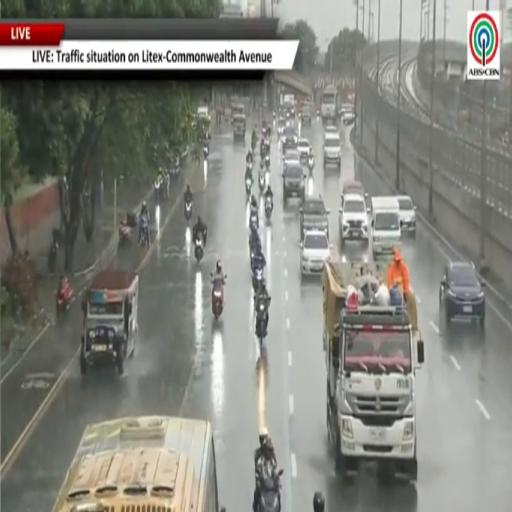bus: (53, 416, 225, 511), (321, 86, 338, 123)
car: (439, 262, 485, 327), (371, 197, 401, 260), (339, 194, 368, 246), (300, 231, 330, 276), (300, 196, 329, 239), (283, 163, 306, 202), (397, 196, 416, 236), (341, 181, 368, 206), (324, 133, 341, 170), (282, 125, 298, 153), (283, 150, 301, 168), (298, 138, 310, 164), (340, 103, 354, 120), (300, 105, 311, 126), (343, 110, 355, 125), (324, 125, 339, 134)
jeepney: (80, 269, 139, 375), (197, 106, 211, 134), (233, 115, 245, 139), (232, 104, 245, 122)
motorcycle: (257, 470, 283, 511), (48, 229, 61, 274), (56, 283, 73, 317), (256, 300, 268, 344), (212, 281, 223, 319), (48, 242, 58, 274), (252, 267, 264, 293), (139, 220, 149, 247), (194, 236, 203, 263), (264, 195, 273, 221), (154, 178, 162, 201), (249, 212, 258, 230), (258, 171, 265, 193), (245, 178, 252, 198), (185, 201, 192, 221), (264, 154, 270, 170), (203, 144, 209, 159), (308, 157, 314, 171), (260, 146, 266, 159), (246, 160, 253, 171), (252, 137, 257, 152)
truck: (323, 259, 424, 482), (321, 86, 338, 124)
